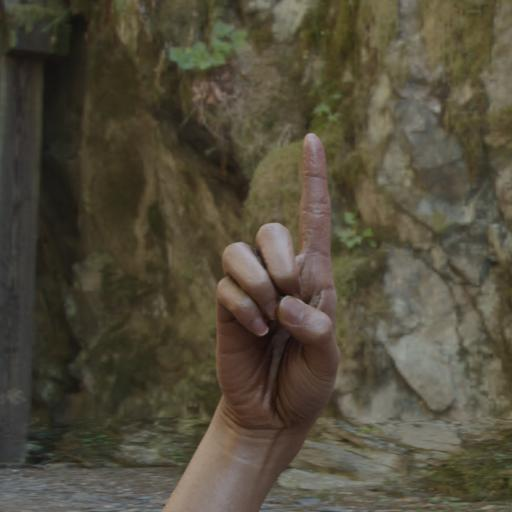D: (177, 119, 371, 497)
